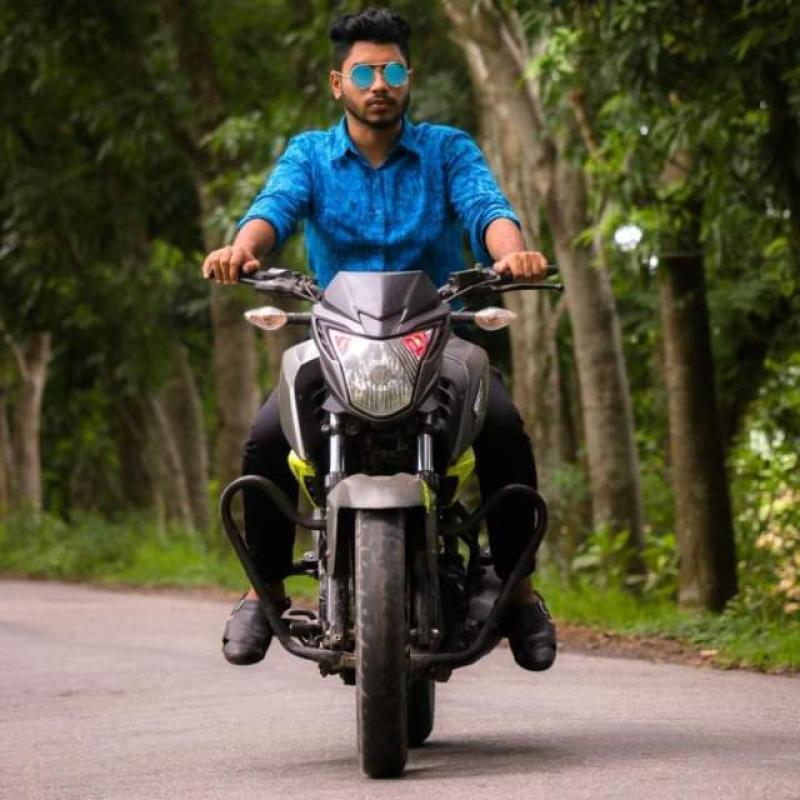nohelmet: (310, 3, 440, 134)
